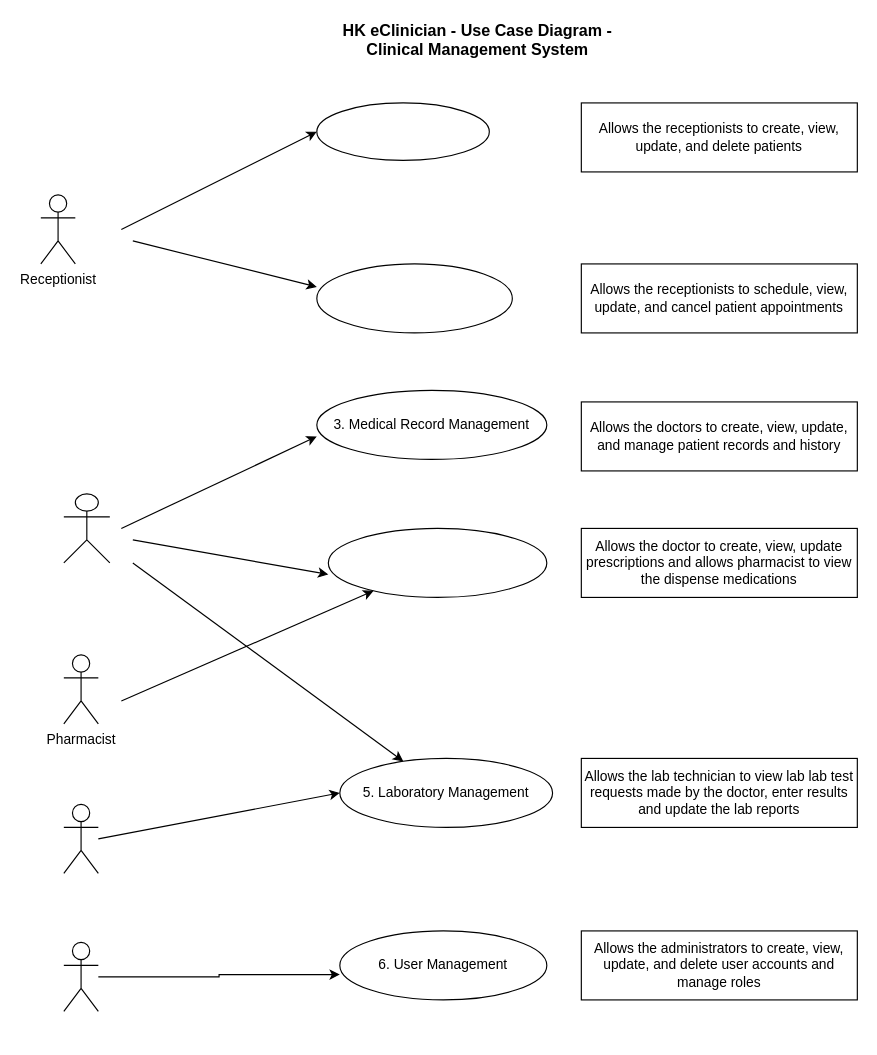
Some shapes in this 877 by 1055 pixel diagram are drawn without their labels. Here are the shapes that lost their labels. From the top down, the centre of each, then its label:
At pixel 402 131: "1. Patient Management".
At pixel 414 298: "2. Appointment Management".
At pixel 86 528: "Doctor/Clinician".
At pixel 437 562: "4. Prescription Management".
At pixel 80 838: "Lab Technician".
At pixel 80 976: "Hospital Admin".
